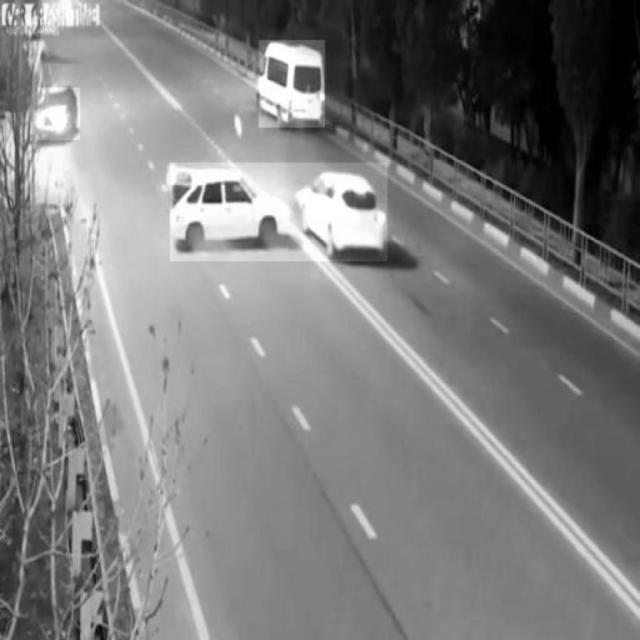accident: (170, 163, 388, 261)
vehicle: (259, 40, 325, 128), (38, 88, 80, 140)
